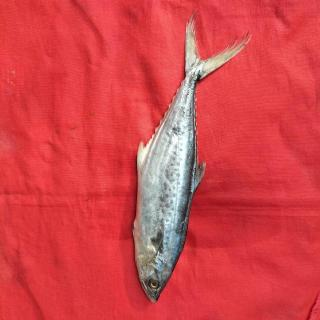Ikan: (111, 8, 245, 304)
